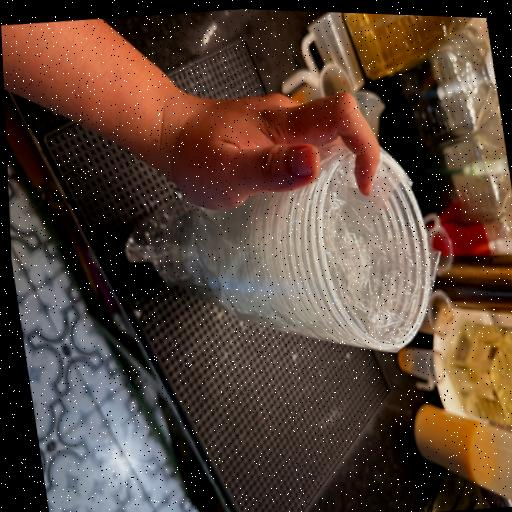ly_nhua: (93, 89, 462, 412)
